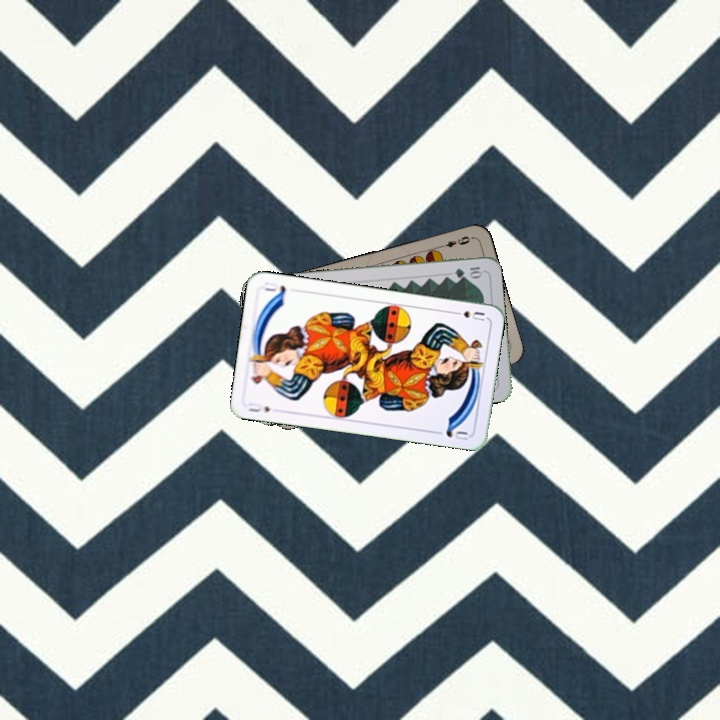E9: (435, 232, 475, 251)
G10: (450, 263, 485, 280)
SU: (448, 307, 487, 323), (245, 400, 272, 415)
